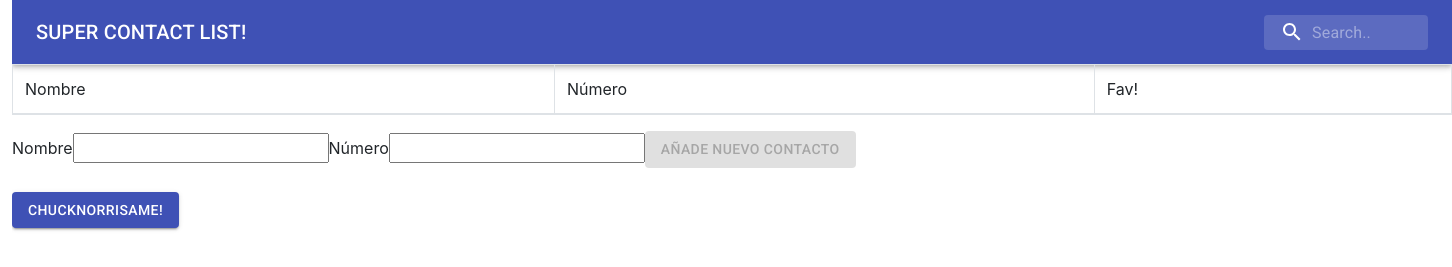
Test: Contact list functionality › Chuck Norris jokes › should show a random Chuck norris Joke when click button
This screenshot has width=1452, height=267.
What coordinates should you click on to do the following:
click the button "Chucknorrisame!"
I would click on:
 (96, 210)
Its box is [12,192,179,228].
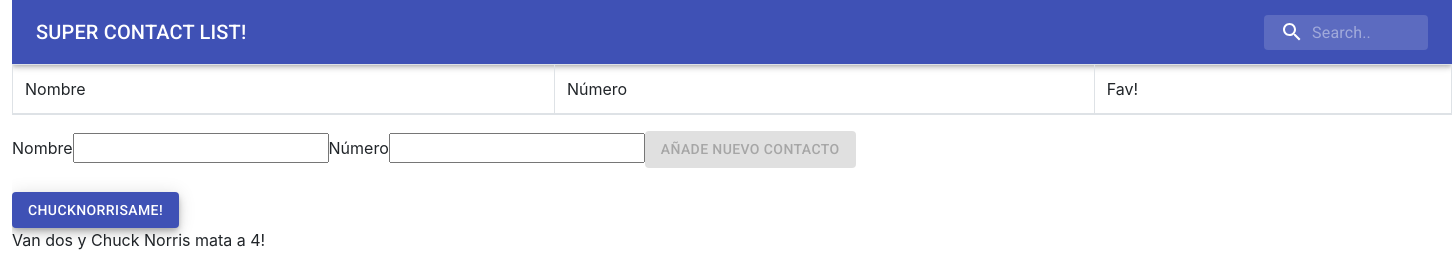
Expected: the text "Van dos y Chuck Norris mata a 4!" is shown, [12,230,265,250]
